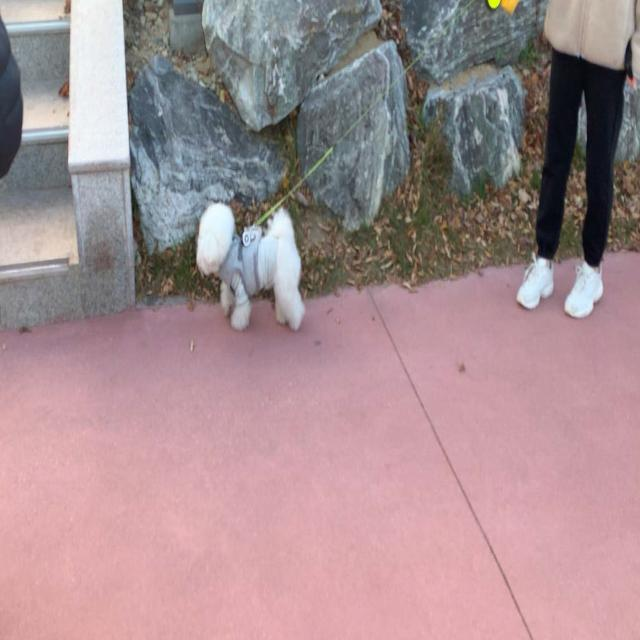Leashed_Dog: (196, 0, 582, 331)
